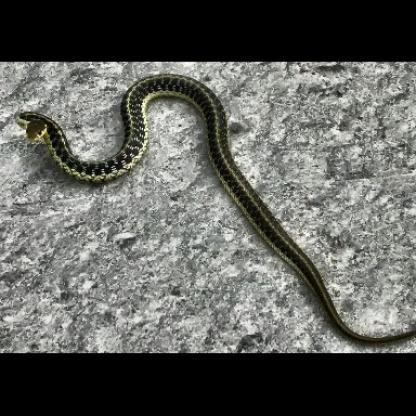Snake: (14, 72, 243, 191)
